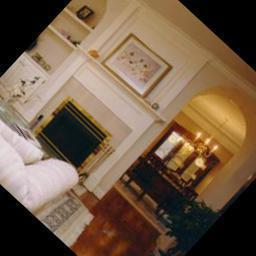Matera: (109, 191, 215, 256)
